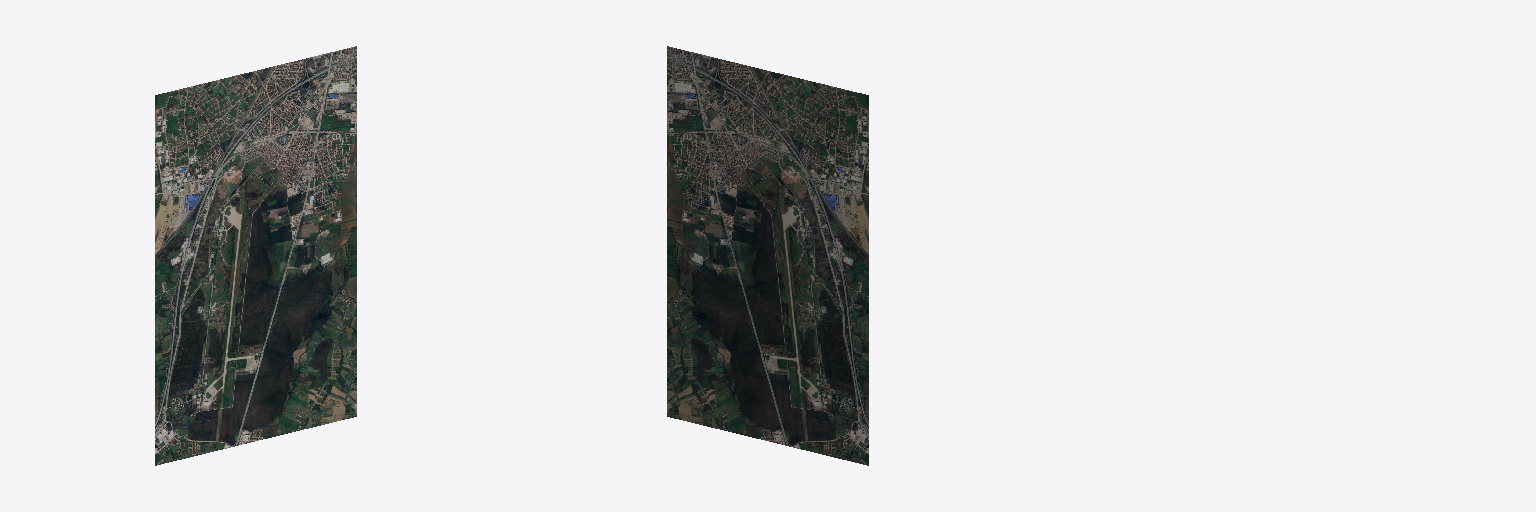
The picture shows the model from 3 angles: view 1: azimuth 30°, elevation 25°; view 2: azimuth 150°, elevation 25°; view 3: azimuth 270°, elevation 25°; orthographic projection.
Visible parts, largest first — view 1: EXPORT_GOOGLE_SAT_WM; view 2: EXPORT_GOOGLE_SAT_WM; view 3: none.
Boxes of the visible parts, box(x1,y1,x2,y2) form: EXPORT_GOOGLE_SAT_WM: box(155, 46, 356, 465); EXPORT_GOOGLE_SAT_WM: box(667, 46, 868, 465).
Bounding box in the file's own units: 4892 × 8561 × 0.
1 materials, 1 textured.